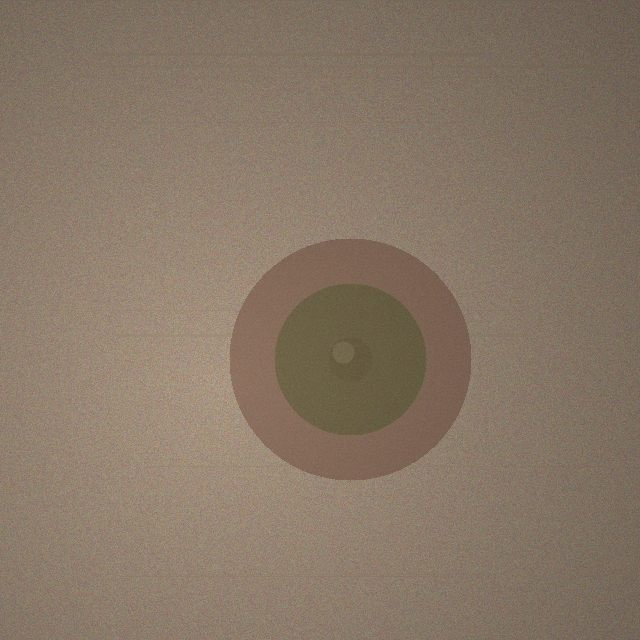good: (229, 238, 471, 480)
